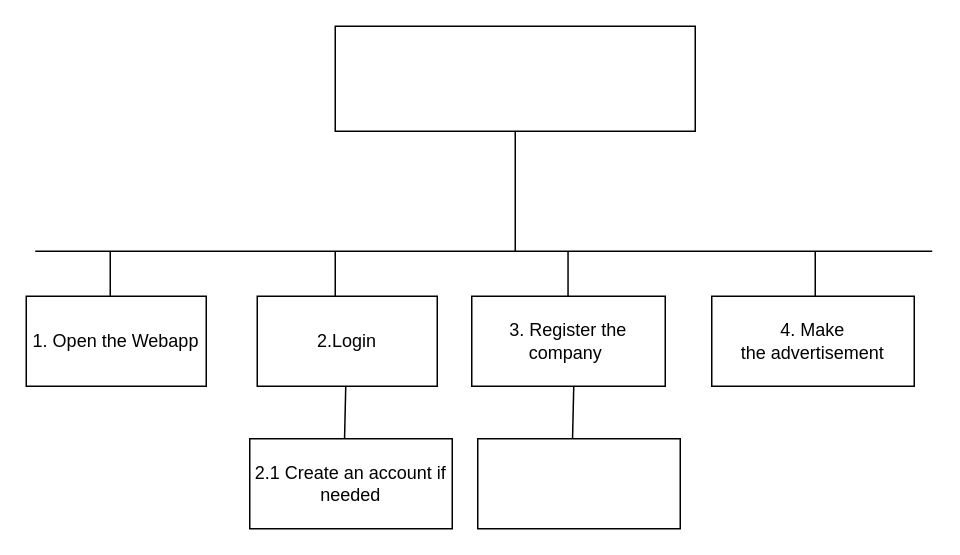
Some shapes in this 960 by 555 pixel diagram are drawn without their labels. Each missing label, with the centre of its shape:
"3.1 Add details in the form, like name, address, NIF, website link ..." goes at (x=578, y=483).
"Adding an company to Webbapp" goes at (x=514, y=78).
